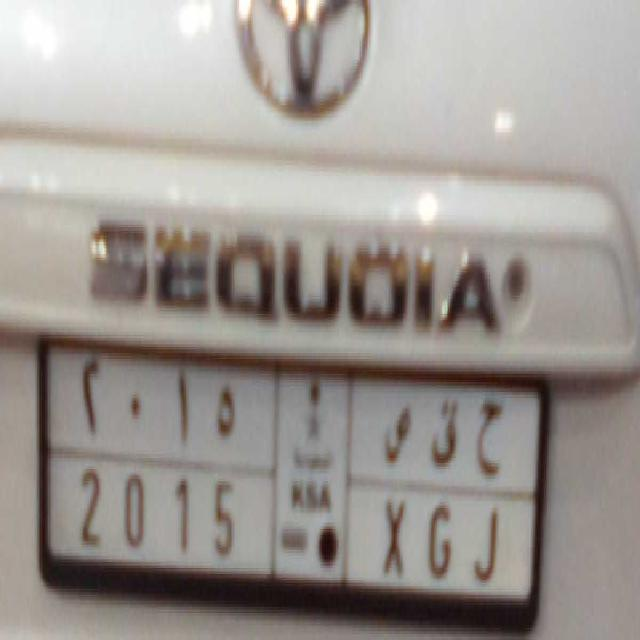license_plate: (65, 462, 512, 599)
